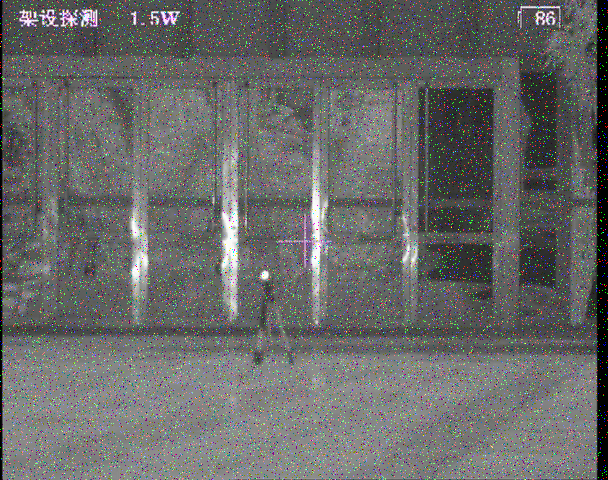my: (259, 269, 269, 281)
